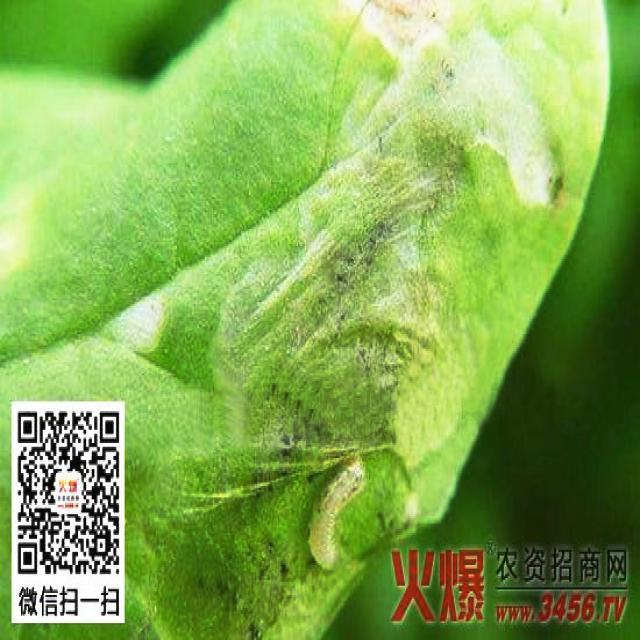whorl-maggot: (295, 443, 371, 573)
